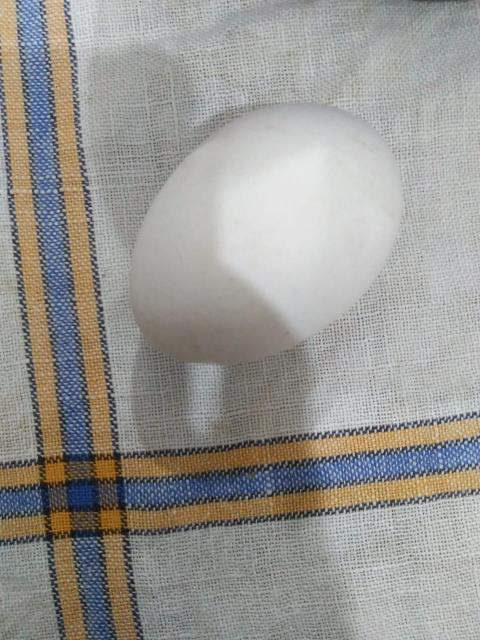Sano: (130, 103, 403, 364)
